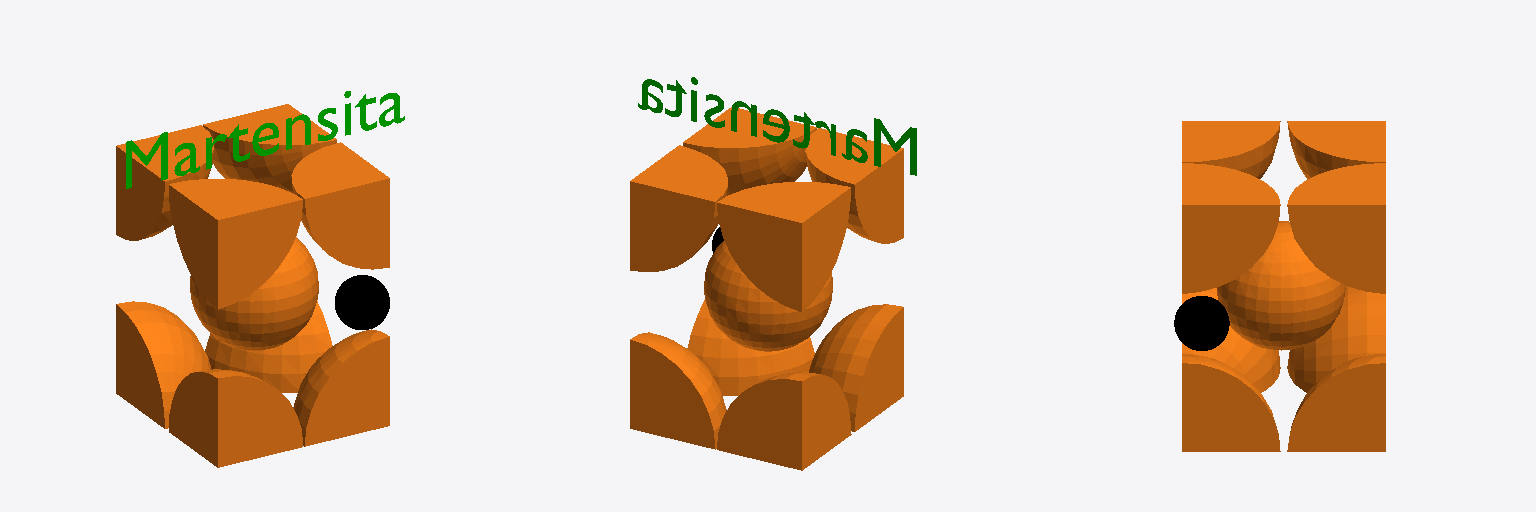
Rendered from martensita.obj.
The picture shows the model from 3 angles: view 1: azimuth 30°, elevation 25°; view 2: azimuth 150°, elevation 25°; view 3: azimuth 270°, elevation 25°; orthographic projection.
Parts seen in each view (by area): view 1: Sphere.292_Sphere.001, Sphere.291_Sphere.001, Sphere.294_Sphere.001, Sphere.293_Sphere.001, Sphere.295_Sphere.001, Sphere.302_Sphere.001, Sphere.296_Sphere.001, Sphere.298_Sphere.001, Sphere.297_Sphere.001, Text.002_Text.021, Sphere.001_Sphere.002; view 2: Sphere.296_Sphere.001, Sphere.295_Sphere.001, Sphere.298_Sphere.001, Sphere.297_Sphere.001, Sphere.291_Sphere.001, Sphere.302_Sphere.001, Sphere.292_Sphere.001, Sphere.294_Sphere.001, Sphere.293_Sphere.001, Text.002_Text.021; view 3: Sphere.294_Sphere.001, Sphere.298_Sphere.001, Sphere.302_Sphere.001, Sphere.293_Sphere.001, Sphere.297_Sphere.001, Sphere.295_Sphere.001, Sphere.292_Sphere.001, Sphere.296_Sphere.001, Sphere.291_Sphere.001, Sphere.001_Sphere.002.
Part boxes in pixels (left/top/right/bottom): Sphere.292_Sphere.001: left=169, top=179, right=302, bottom=309; Sphere.291_Sphere.001: left=169, top=369, right=302, bottom=467; Sphere.294_Sphere.001: left=291, top=142, right=389, bottom=269; Sphere.293_Sphere.001: left=293, top=329, right=389, bottom=446; Sphere.295_Sphere.001: left=116, top=301, right=211, bottom=428; Sphere.302_Sphere.001: left=190, top=237, right=318, bottom=350; Sphere.296_Sphere.001: left=116, top=125, right=213, bottom=240; Sphere.298_Sphere.001: left=203, top=104, right=336, bottom=192; Sphere.297_Sphere.001: left=205, top=301, right=332, bottom=392; Text.002_Text.021: left=126, top=91, right=404, bottom=188; Sphere.001_Sphere.002: left=335, top=275, right=389, bottom=329; Sphere.296_Sphere.001: left=717, top=182, right=850, bottom=311; Sphere.295_Sphere.001: left=717, top=372, right=851, bottom=470; Sphere.298_Sphere.001: left=630, top=145, right=727, bottom=271; Sphere.297_Sphere.001: left=630, top=332, right=726, bottom=449; Sphere.291_Sphere.001: left=809, top=304, right=903, bottom=431; Sphere.302_Sphere.001: left=704, top=241, right=832, bottom=351; Sphere.292_Sphere.001: left=805, top=128, right=903, bottom=243; Sphere.294_Sphere.001: left=683, top=107, right=816, bottom=195; Sphere.293_Sphere.001: left=687, top=300, right=814, bottom=395; Text.002_Text.021: left=638, top=77, right=916, bottom=175; Sphere.294_Sphere.001: left=1182, top=163, right=1280, bottom=293; Sphere.298_Sphere.001: left=1287, top=163, right=1385, bottom=293; Sphere.302_Sphere.001: left=1217, top=221, right=1345, bottom=350; Sphere.293_Sphere.001: left=1182, top=354, right=1280, bottom=451; Sphere.297_Sphere.001: left=1287, top=354, right=1385, bottom=451; Sphere.295_Sphere.001: left=1287, top=286, right=1385, bottom=392; Sphere.292_Sphere.001: left=1182, top=121, right=1280, bottom=178; Sphere.296_Sphere.001: left=1287, top=121, right=1385, bottom=179; Sphere.291_Sphere.001: left=1182, top=288, right=1280, bottom=392; Sphere.001_Sphere.002: left=1174, top=296, right=1229, bottom=350.
Size of the model in its own units: 6.48 by 6.87 by 4.26.